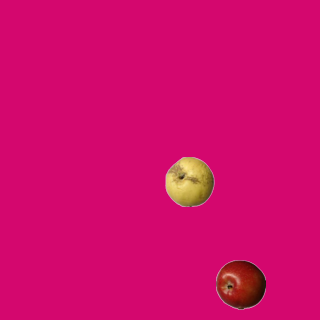Apple Braeburn: (215, 259, 265, 309)
Apple Golden 1: (164, 156, 214, 206)
